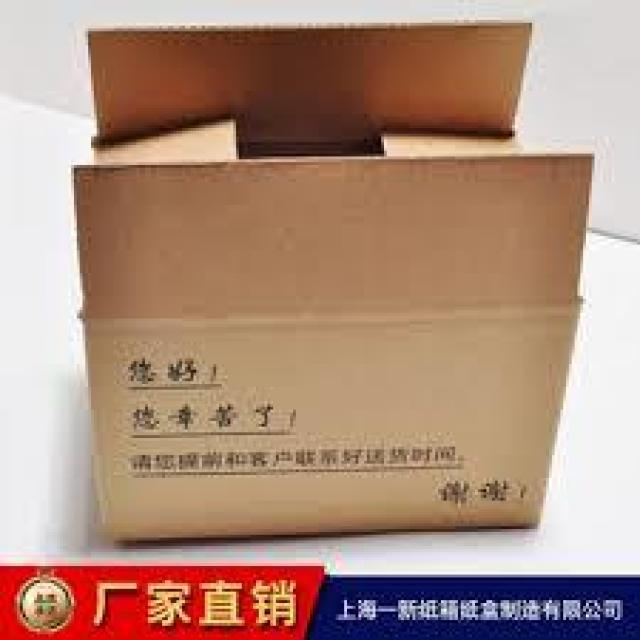-Recyclables - paper box-: (67, 22, 589, 544)
